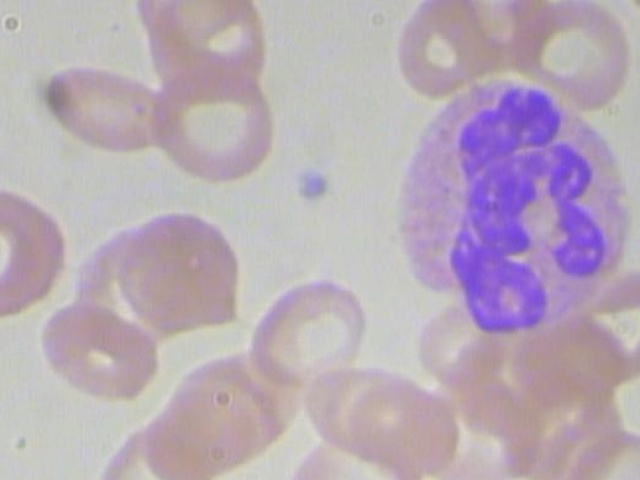Platelets: (289, 164, 334, 204)
RBC: (106, 200, 249, 343), (238, 270, 380, 393), (144, 66, 286, 188), (31, 47, 170, 159), (510, 0, 640, 117), (33, 290, 160, 400), (75, 413, 230, 480), (0, 181, 71, 327), (288, 427, 442, 480), (554, 425, 640, 480)
WBC: (372, 75, 640, 345)
